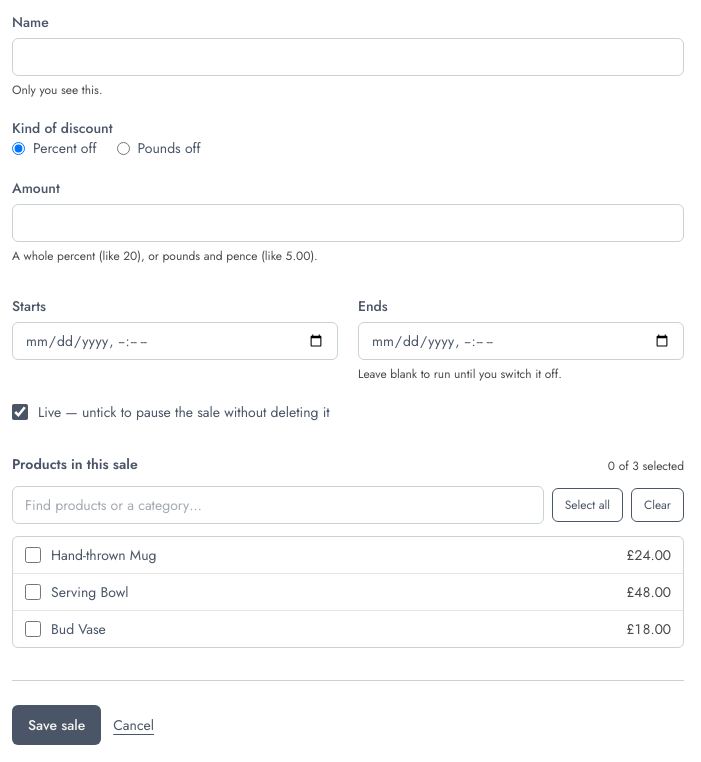
Test: SaleForm › shows how many products are selected
Click the checkbox labelled "Bud Vase £18.00" at (33, 629), box [25,621,41,637]
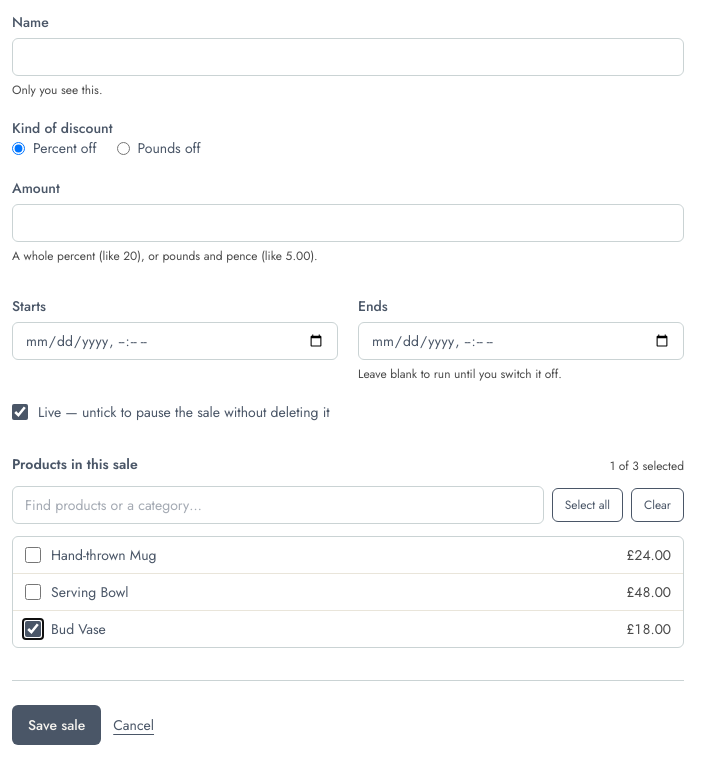
Click the checkbox labelled "Serving Bowl £48.00" at (33, 592), box [25,584,41,600]
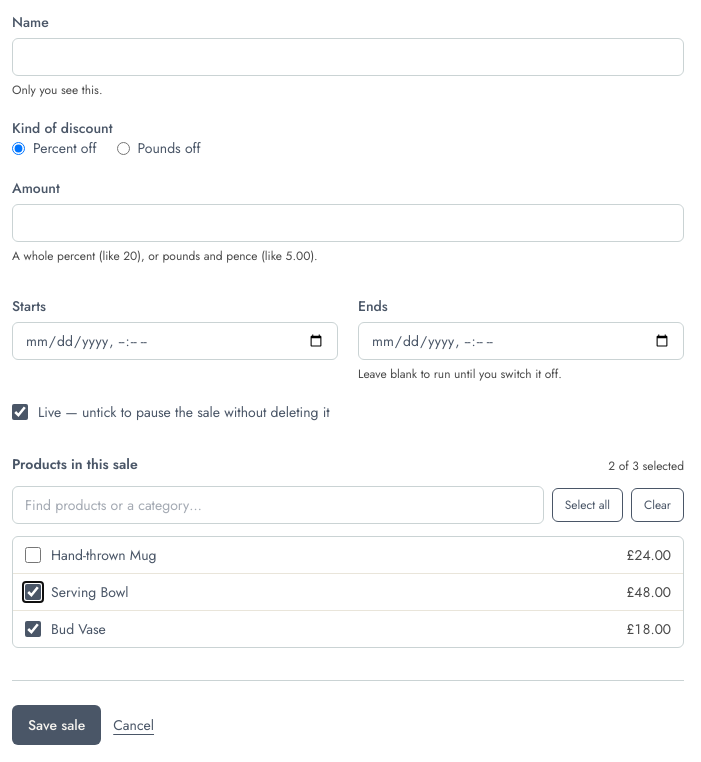
Expected: the text "2 of 3 selected" is shown, [608,458,684,474]
